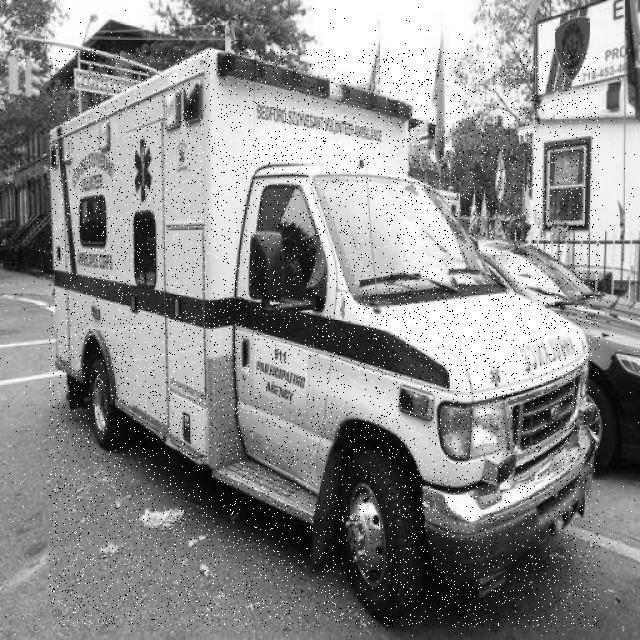Ambulance: (49, 49, 600, 627)
